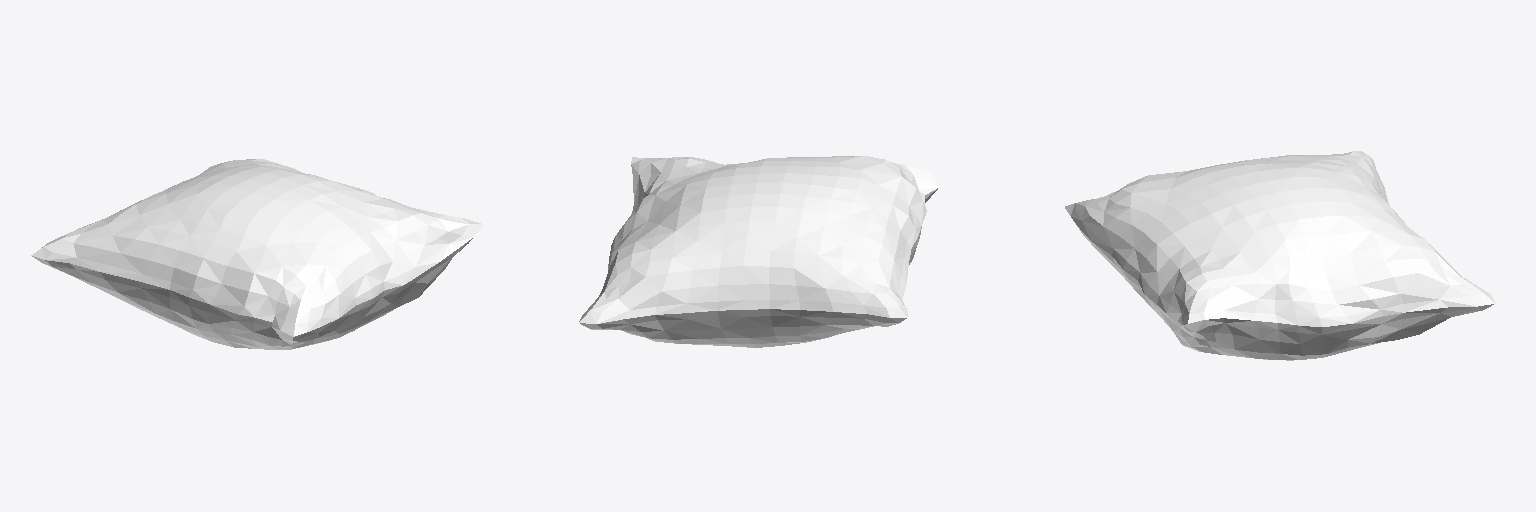
Rendered from pillow_blue.obj.
3 renders of one model, left to right at view 1: azimuth 30°, elevation 25°; view 2: azimuth 150°, elevation 25°; view 3: azimuth 270°, elevation 25°, orthographic.
Visible parts, largest first — view 1: Pillow_Left_Cube.005; view 2: Pillow_Left_Cube.005; view 3: Pillow_Left_Cube.005.
Boxes of the visible parts, <box> form: Pillow_Left_Cube.005: <box>31,159,483,349</box>; Pillow_Left_Cube.005: <box>579,156,945,347</box>; Pillow_Left_Cube.005: <box>1065,151,1495,360</box>.
Size of the model in its own units: 68.17 by 25.33 by 69.93.